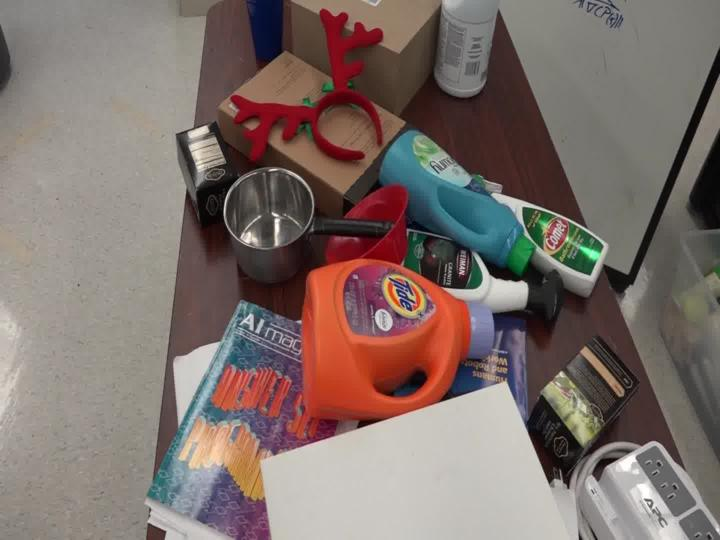downy: (358, 108, 546, 293)
